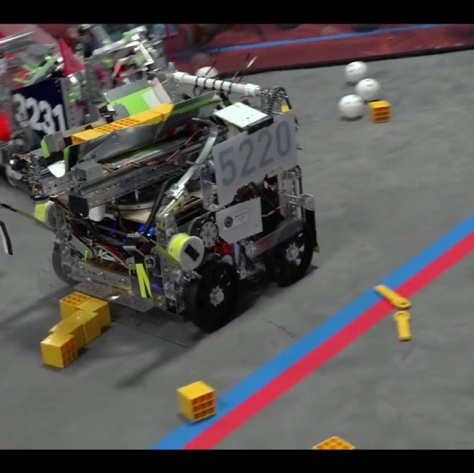robot: (38, 66, 323, 337), (1, 23, 173, 199)
